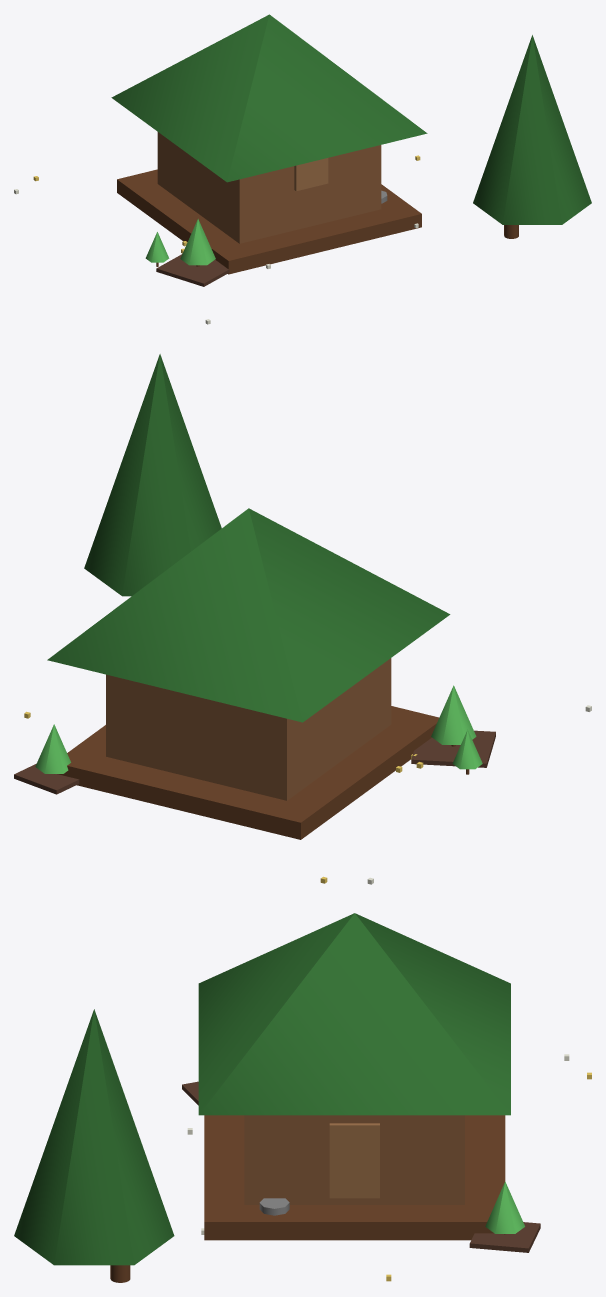
File: foresters_hut.glb
The picture shows the model from 3 angles, top to bottom: view 1: azimuth 30°, elevation 25°; view 2: azimuth 150°, elevation 25°; view 3: azimuth 270°, elevation 25°; orthographic projection. The views are drawn at different scales.
Parts seen in each view (by area): view 1: PyramidRoof, Walls, TreeLeaves, Foundation, SaplingLeaves (×2), SoilPatch1, Window; view 2: PyramidRoof, Walls, TreeLeaves, Foundation, SaplingLeaves (×3), SoilPatch1, SoilPatch2; view 3: PyramidRoof, TreeLeaves, Foundation, Walls, Door, SoilPatch2, SaplingLeaves.
Part boxes in pixels (box(x1,y1,x2,y2)): PyramidRoof: box(111, 14, 427, 182); Walls: box(157, 132, 381, 243); TreeLeaves: box(473, 35, 591, 224); Foundation: box(117, 169, 421, 274); SaplingLeaves (×2): box(145, 219, 215, 265); SoilPatch1: box(156, 254, 229, 286); Window: box(294, 158, 328, 191); PyramidRoof: box(47, 508, 450, 722); Walls: box(106, 658, 391, 800); TreeLeaves: box(84, 354, 221, 596); Foundation: box(57, 706, 438, 839); SaplingLeaves (×3): box(35, 685, 482, 773); SoilPatch1: box(411, 730, 495, 767); SoilPatch2: box(14, 763, 79, 794); PyramidRoof: box(198, 913, 510, 1115); TreeLeaves: box(14, 1009, 174, 1265); Foundation: box(204, 1115, 505, 1240); Walls: box(244, 1115, 464, 1204); Door: box(329, 1123, 379, 1198); SoilPatch2: box(469, 1222, 540, 1252); SaplingLeaves: box(485, 1181, 524, 1233).
Size of the model in its own units: 6 by 3.05 by 5.76.
